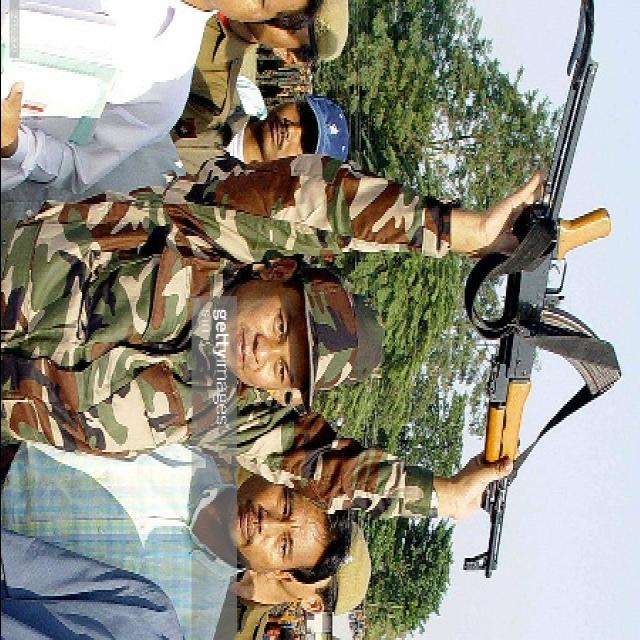rifle: (456, 1, 625, 587)
